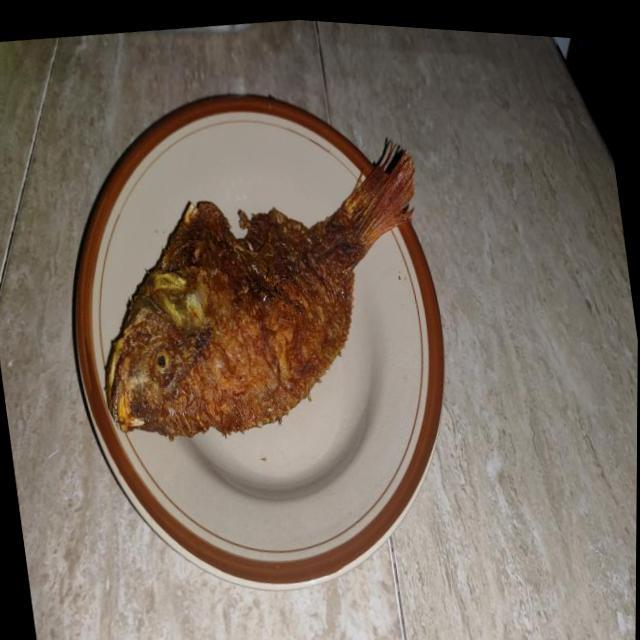ikan_mujair: (105, 147, 414, 441)
